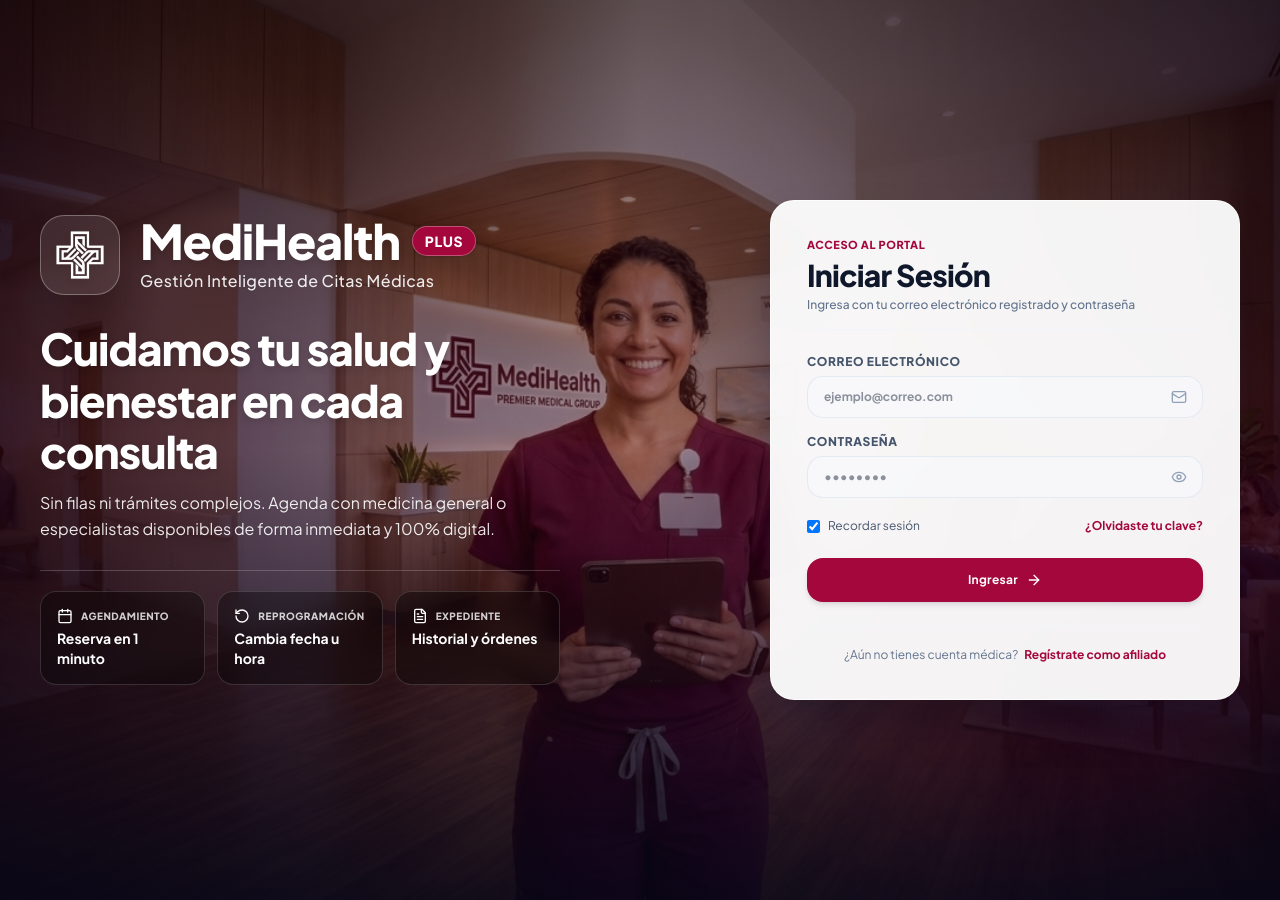
Test: pantallas de autenticación › muestra un error genérico de credenciales sin revelar el campo incorrecto
Type "ana@example.com" into the field labelled "Correo Electrónico" at (1005, 397), box [807,376,1203,418]
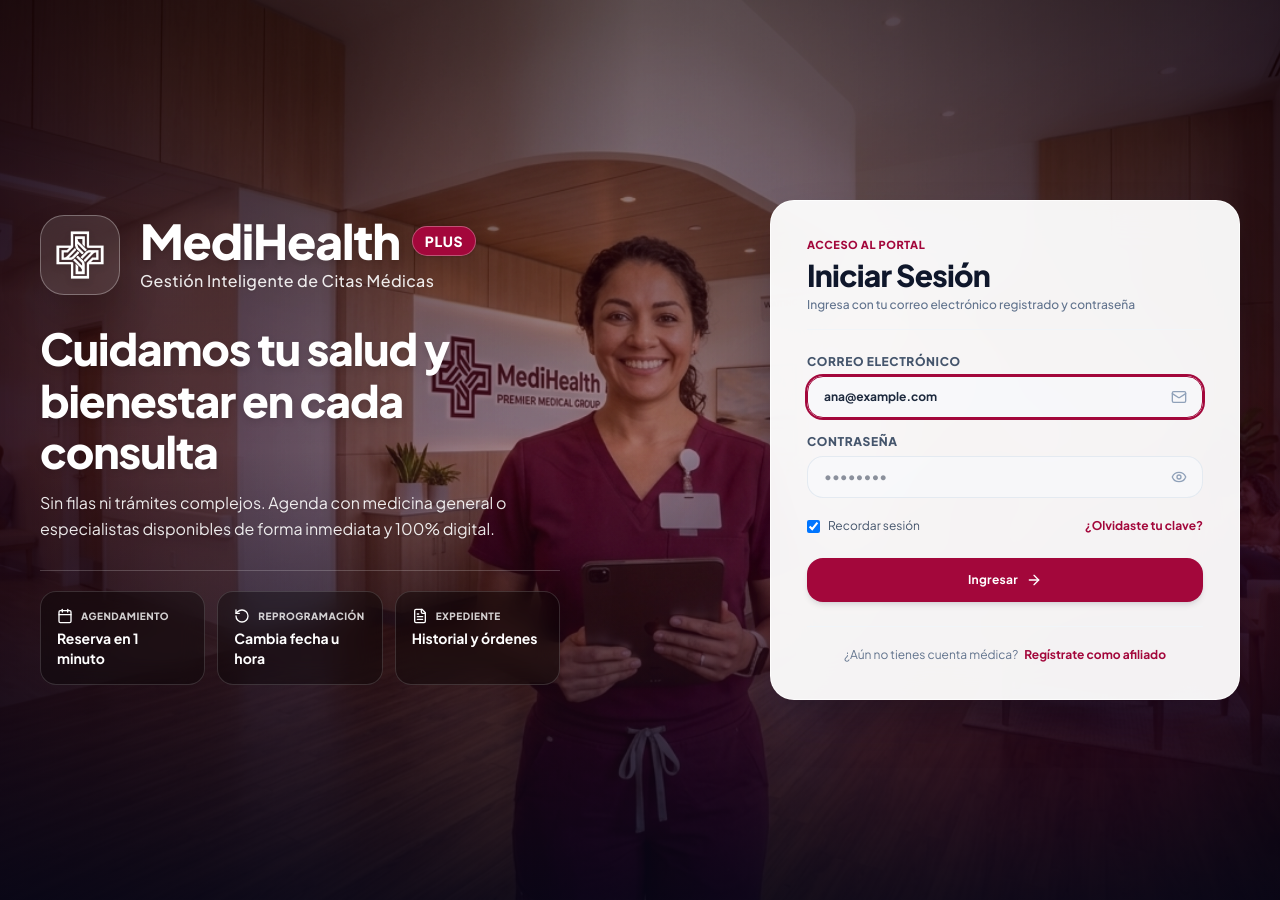
Type "incorrecta" into the password field labelled "Contraseña" at (1005, 477), box [807,456,1203,498]
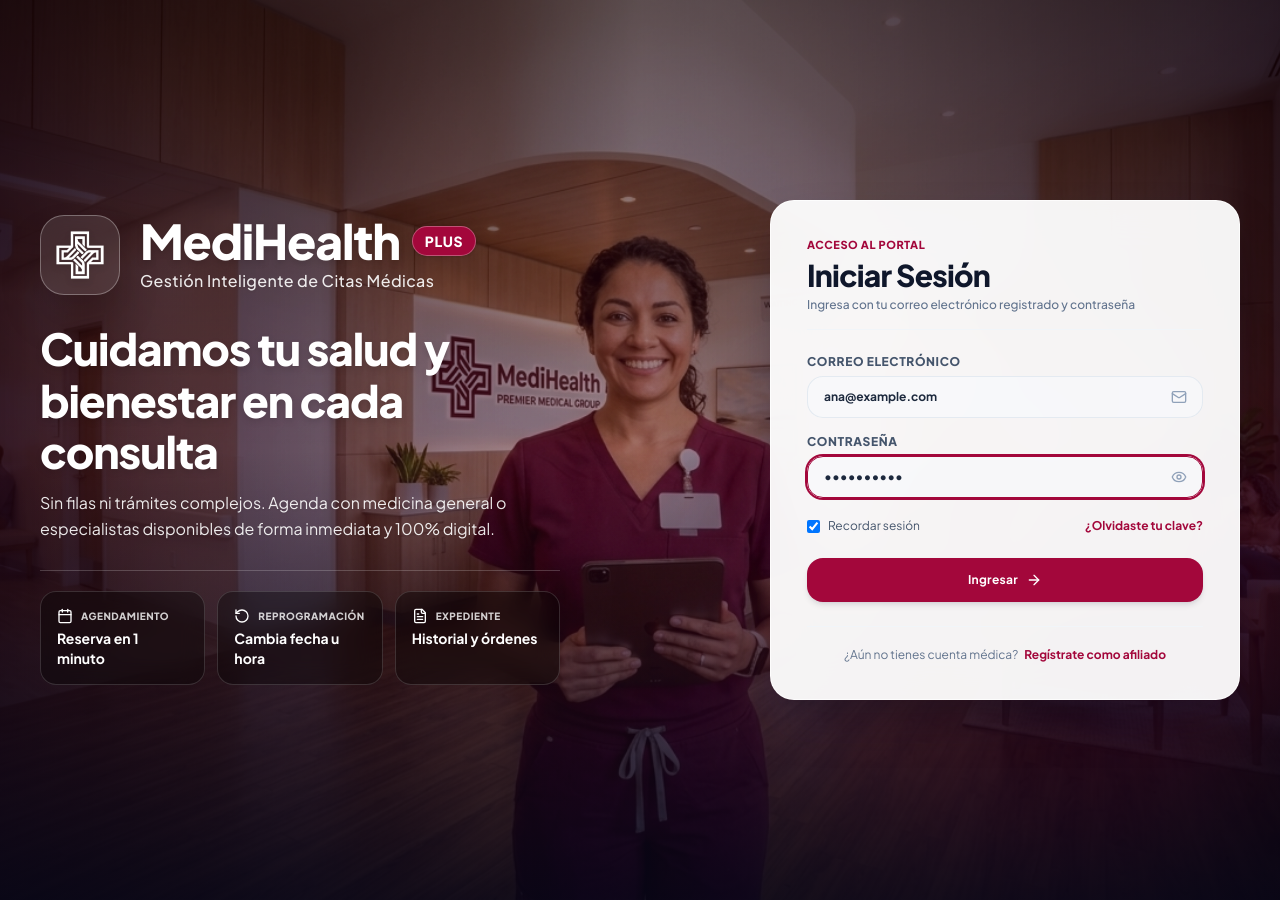
Click the button "Ingresar" at (1005, 580), box [807,558,1203,602]
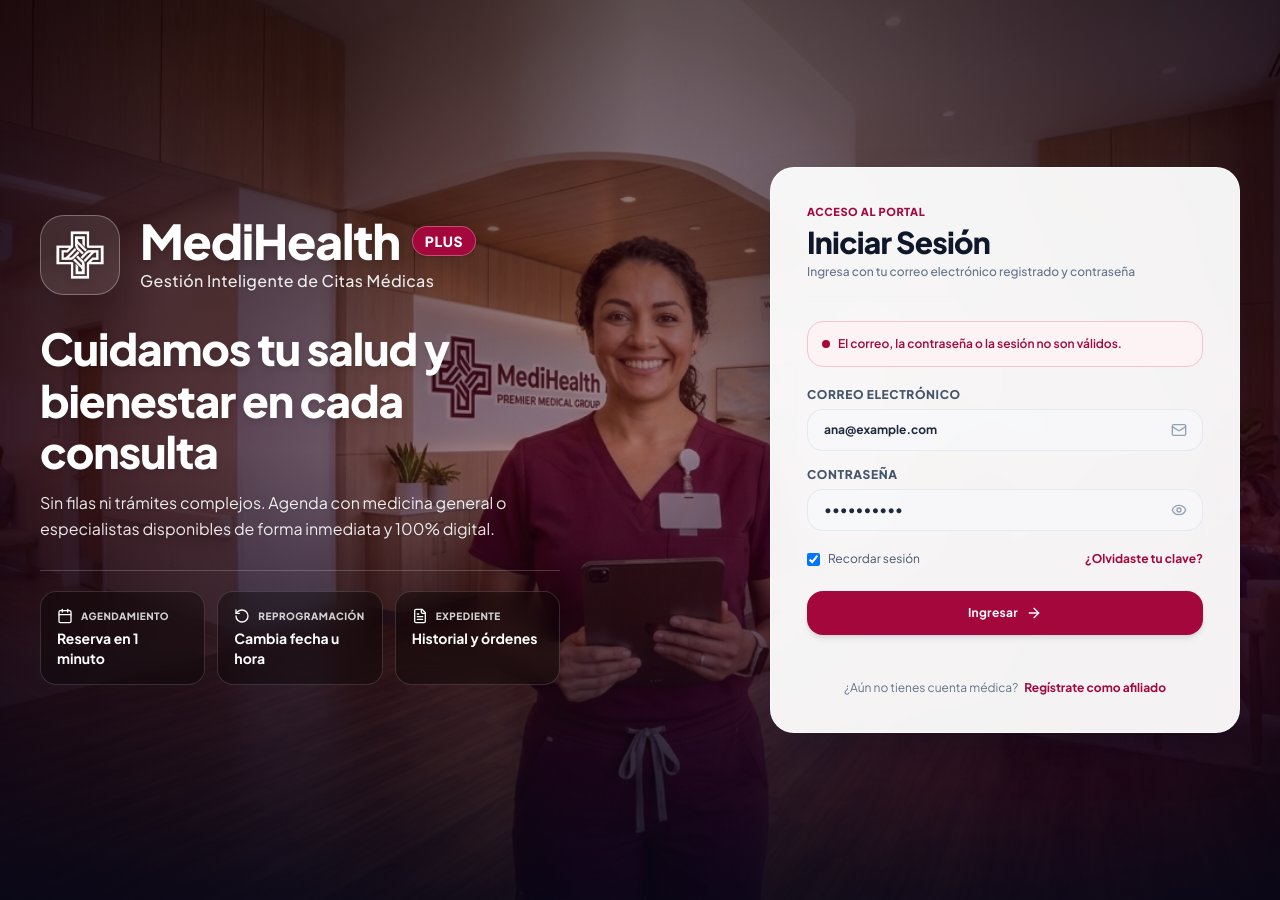
Now the message reads "El correo, la contraseña o la sesión no son válidos.", box [838,336,1122,351]
